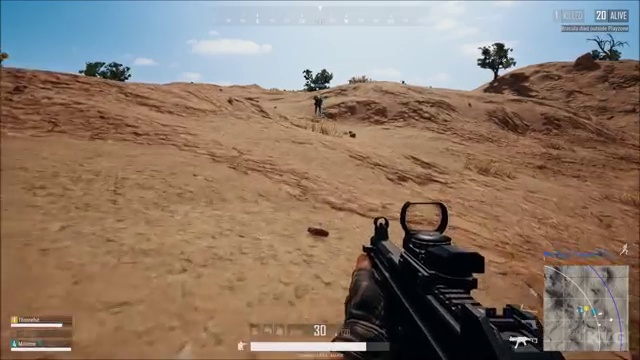Player: (309, 87, 331, 126)
